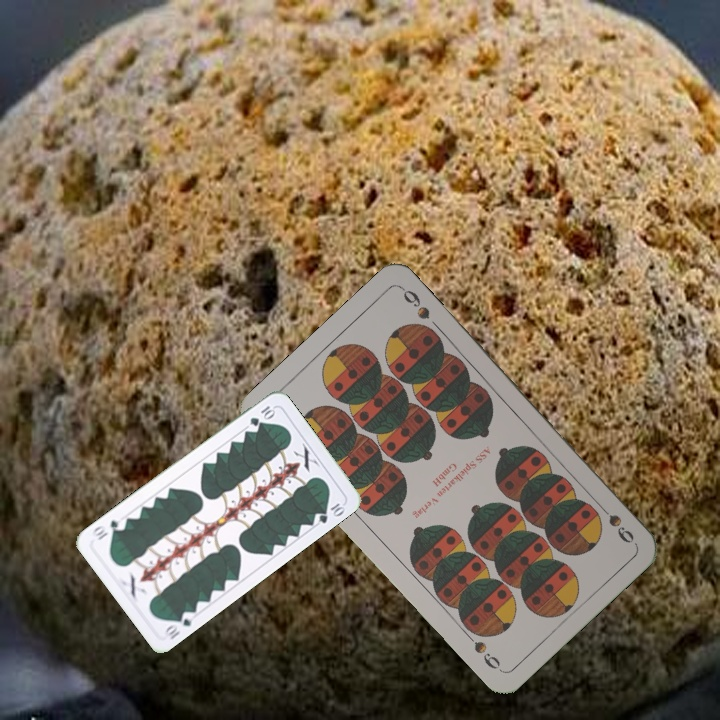G10: (159, 607, 198, 642), (246, 402, 278, 429)
S9: (592, 498, 637, 546)
